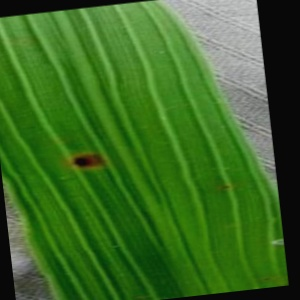Bacterial_Leaf_Blight: (64, 146, 113, 172), (259, 274, 275, 283), (222, 182, 233, 192)
